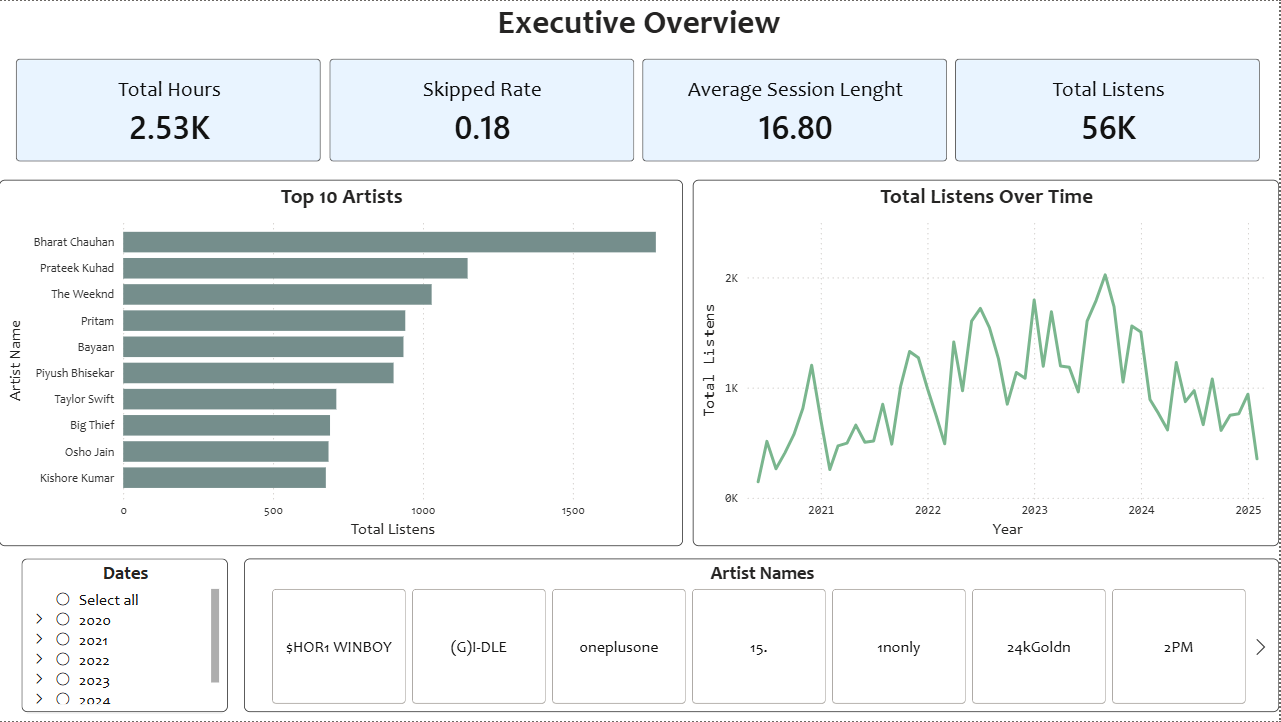

The dashboard page shown, as its layout file describes it:
{"tool":"powerbi","page":{"name":"Executive Overview","canvas":[1280,720],"ordinal":0},"visuals":[{"type":"cardVisual","title":"Executive Overview","fields":{"Data":["clean_spotify_data.total_hours","clean_spotify_data.skipped_rate","clean_spotify_data.average_session_lenght","clean_spotify_data.total_listens"]},"box":[0,0,1280,178.8],"z":0},{"type":"clusteredBarChart","title":"Top 10 Artists","fields":{"Category":["clean_spotify_data.artist_name"],"Y":["clean_spotify_data.Total Listens"]},"box":[0,178.8,683.8,366.2],"z":1000},{"type":"lineChart","title":"Total Listens Over Time","fields":{"Y":["clean_spotify_data.Total Listens"],"Category":["clean_spotify_data.ts.Variation.Date Hierarchy.Year","clean_spotify_data.ts.Variation.Date Hierarchy.Month"]},"box":[693.8,178.8,586.2,366.2],"z":2000},{"type":"listSlicer","title":"Dates","fields":{"Values":["clean_spotify_data.ts.Variation.Date Hierarchy.Year","clean_spotify_data.ts.Variation.Date Hierarchy.Month"]},"box":[22.5,557.5,206.2,153.8],"z":3000},{"type":"advancedSlicerVisual","title":"Artist Names","fields":{"Values":["clean_spotify_data.artist_name"]},"box":[245,557.5,1035,153.8],"z":4000}]}

Visuals, with their boxes in screenshot pixels (x1, y1, x2, y2), scaled from the page's 1280x720 canvas onto the 1281x722 screenshot:
"Executive Overview" cardVisual: <box>0,0,1280,179</box>
"Top 10 Artists" clusteredBarChart: <box>0,179,684,547</box>
"Total Listens Over Time" lineChart: <box>694,179,1280,547</box>
"Dates" listSlicer: <box>23,559,229,713</box>
"Artist Names" advancedSlicerVisual: <box>245,559,1280,713</box>
